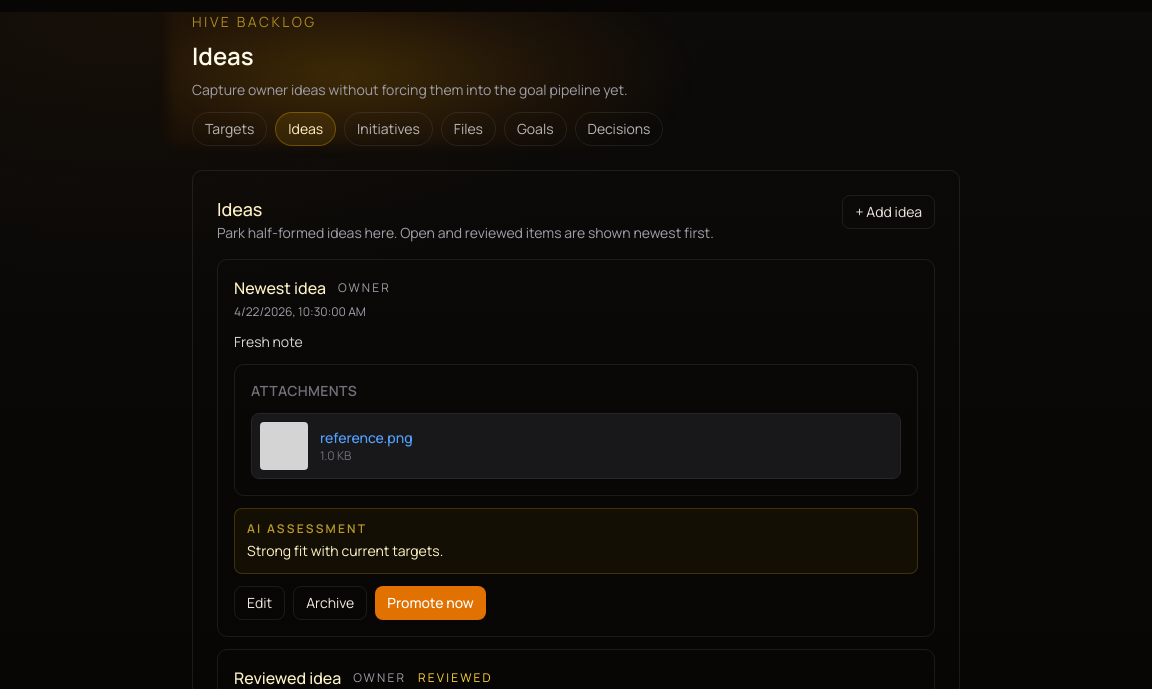
Test case: HiveIdeasPage › posts a new idea from the inline owner capture UI
The image size is (1152, 689).
Check: the heading "Newest idea" is shown, box [234, 276, 326, 300]
Click the button "+ Add idea". click: {"x": 889, "y": 212}
box: [842, 195, 935, 229]
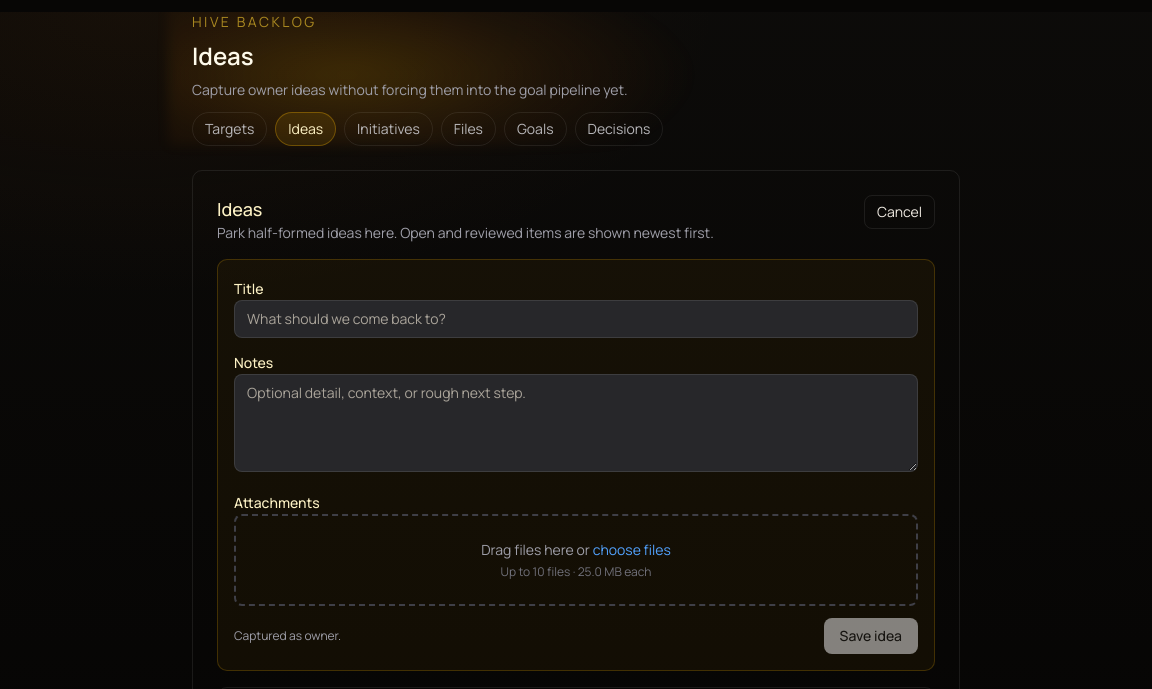
Type "Captured from UI" into the field labelled "Title". click: {"x": 576, "y": 319}
box: [234, 300, 918, 338]
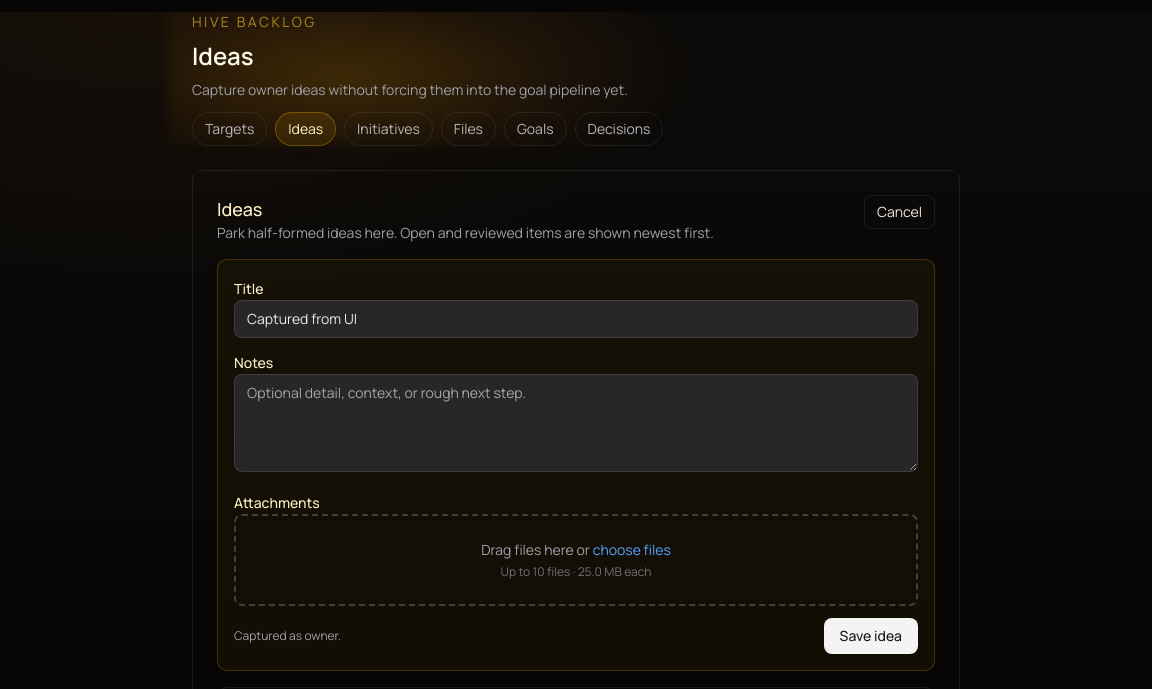
Type "Owner note" into the text box labelled "Notes". click: {"x": 576, "y": 423}
box: [234, 374, 918, 472]
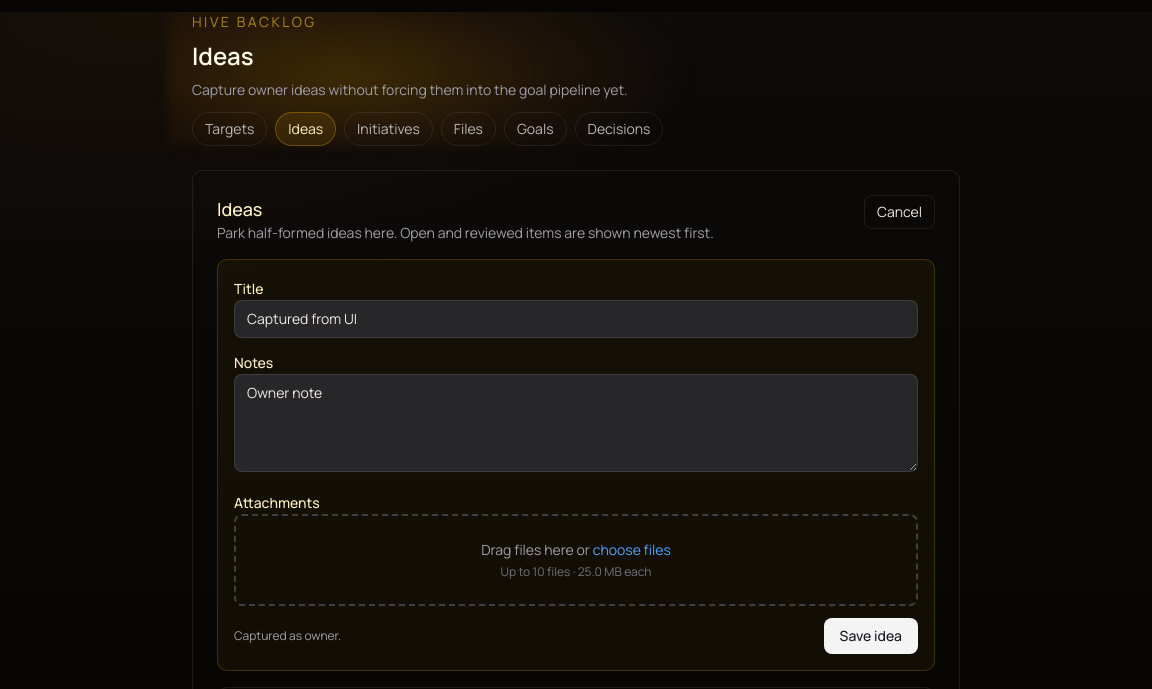
Click the button "Save idea". click: {"x": 871, "y": 636}
box: [824, 618, 918, 654]
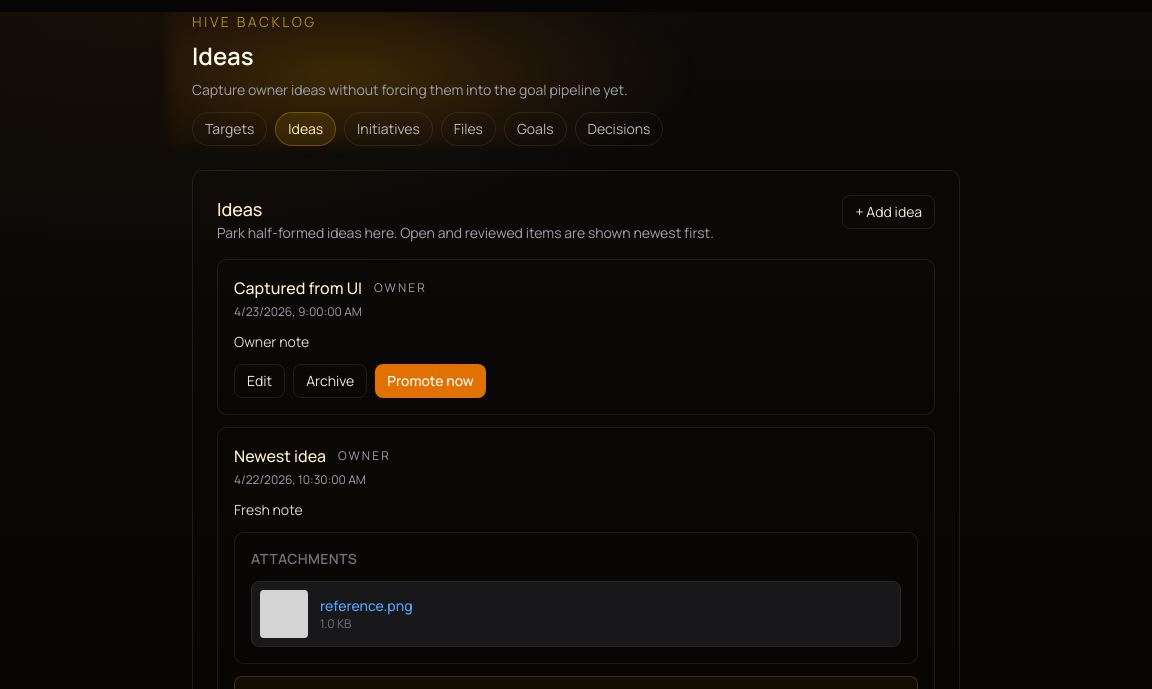
Check: the heading "Captured from UI" is shown, box [234, 276, 362, 300]
Check: the text "owner" next to "Captured from UI" is shown, box [374, 279, 427, 296]
Check: the text "Owner note" is shown, box [234, 332, 309, 351]
